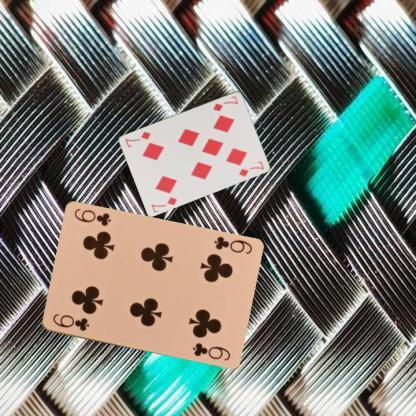6c: (211, 233, 253, 256), (50, 311, 90, 333)
7d: (149, 194, 179, 214), (210, 93, 240, 112)
